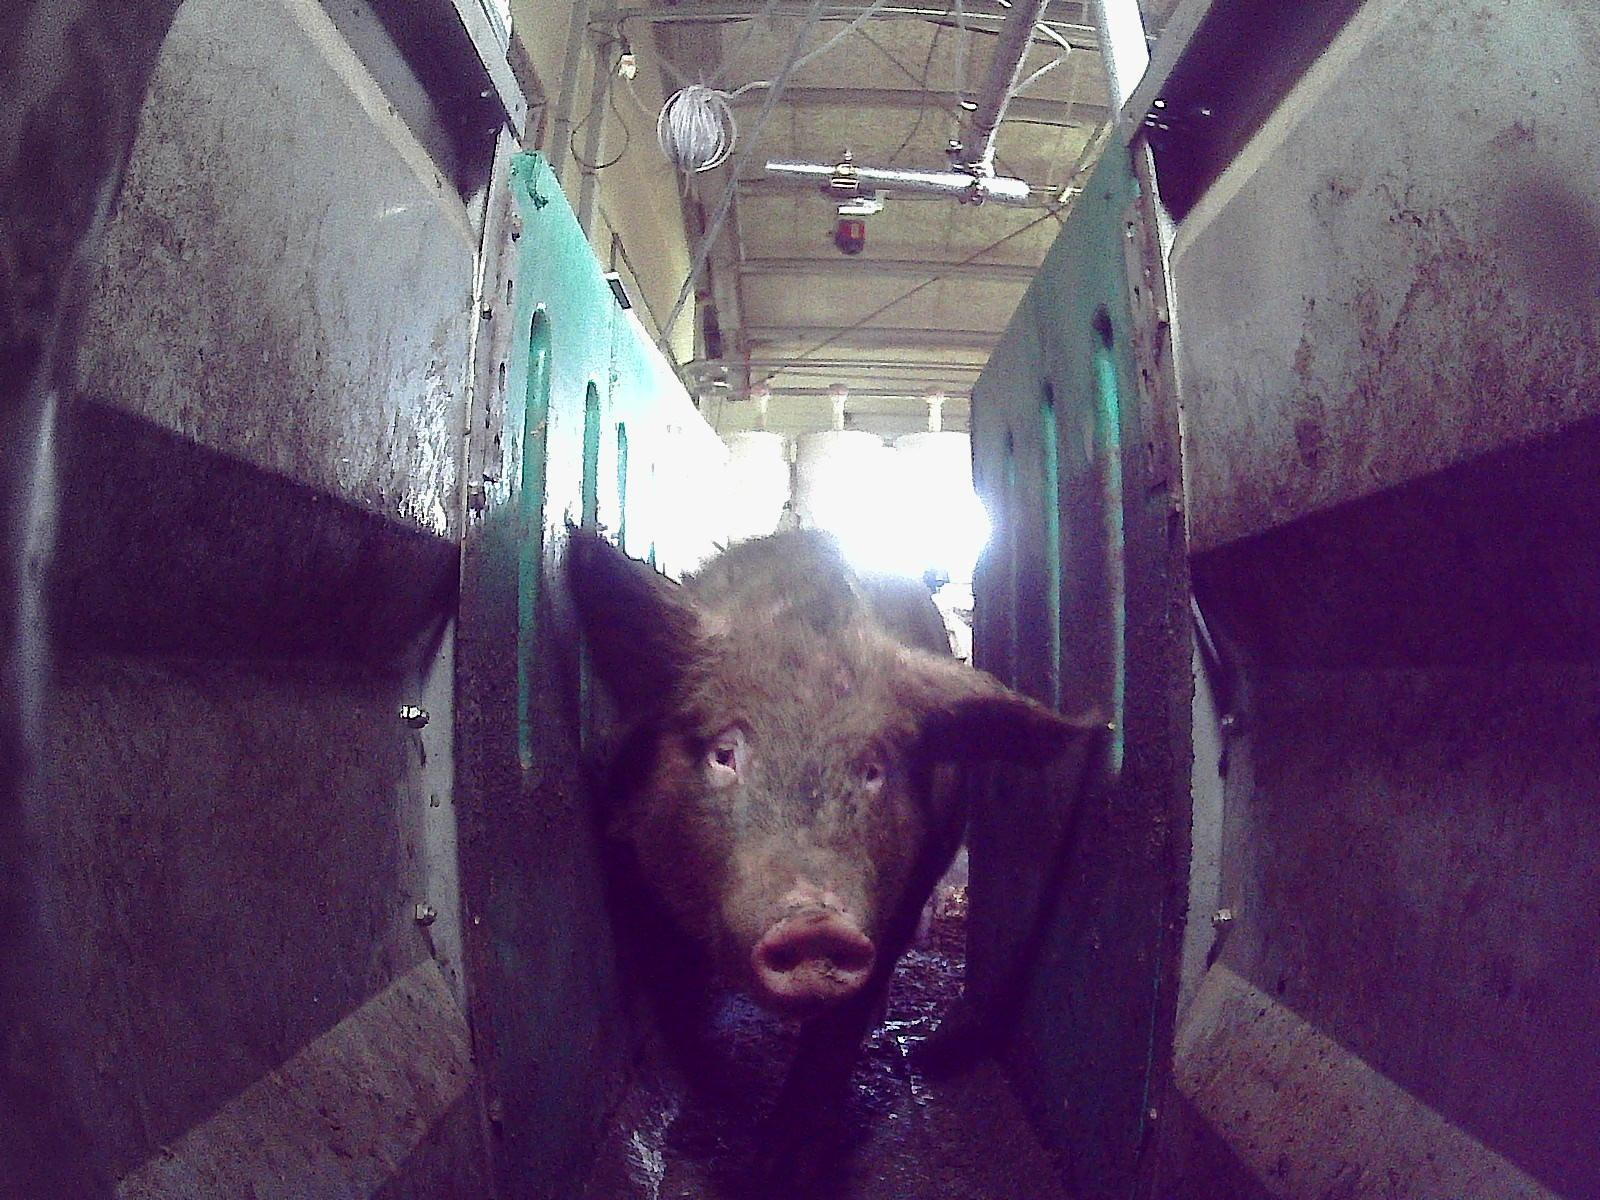Face: (642, 619, 911, 1009)
